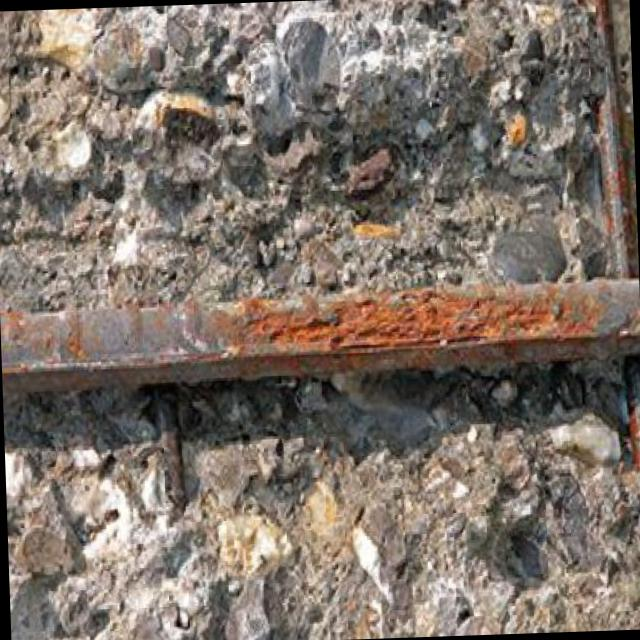defective: (0, 176, 640, 500)
